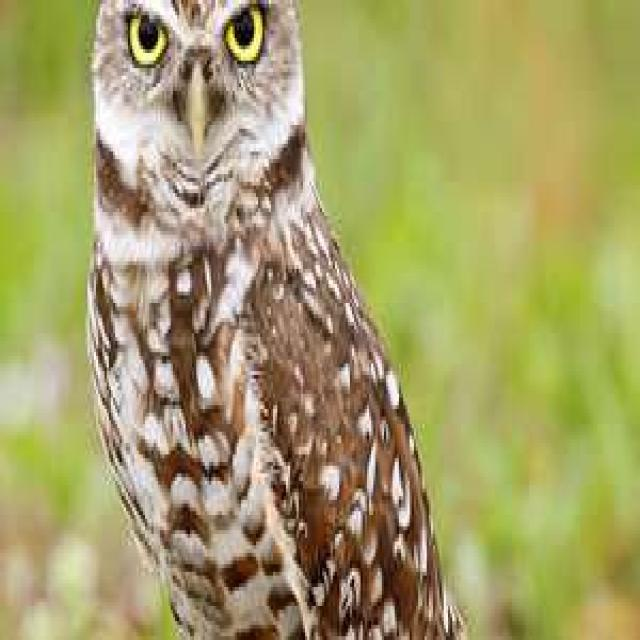Owl: (82, 1, 472, 632)
